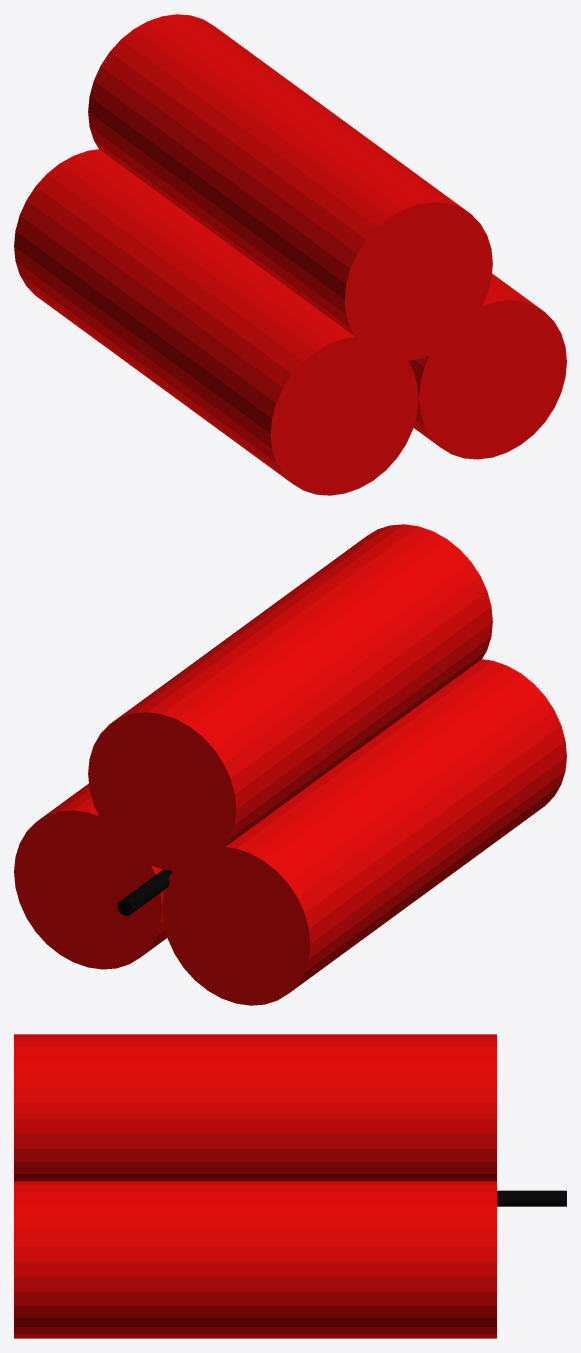
File: Dynamite.fbx
The picture shows the model from 3 angles, top to bottom: view 1: azimuth 30°, elevation 25°; view 2: azimuth 150°, elevation 25°; view 3: azimuth 270°, elevation 25°; orthographic projection. The views are drawn at different scales.
Visible parts, largest first — view 1: Cylinder.002, Cylinder, Cylinder.001; view 2: Cylinder.002, Cylinder, Cylinder.001, Cylinder.003; view 3: Cylinder.001, Cylinder.002, Cylinder.003.
Boxes of the visible parts, <box> form: Cylinder.002: <box>88,14,492,360</box>; Cylinder: <box>14,149,418,495</box>; Cylinder.001: <box>408,273,566,459</box>; Cylinder.002: <box>88,524,492,870</box>; Cylinder: <box>162,659,566,1005</box>; Cylinder.001: <box>14,783,172,969</box>; Cylinder.003: <box>117,869,171,915</box>; Cylinder.001: <box>14,1181,496,1338</box>; Cylinder.002: <box>14,1034,496,1181</box>; Cylinder.003: <box>497,1190,566,1206</box>.
Bounding box in the file's own units: 400 × 350 × 687.
